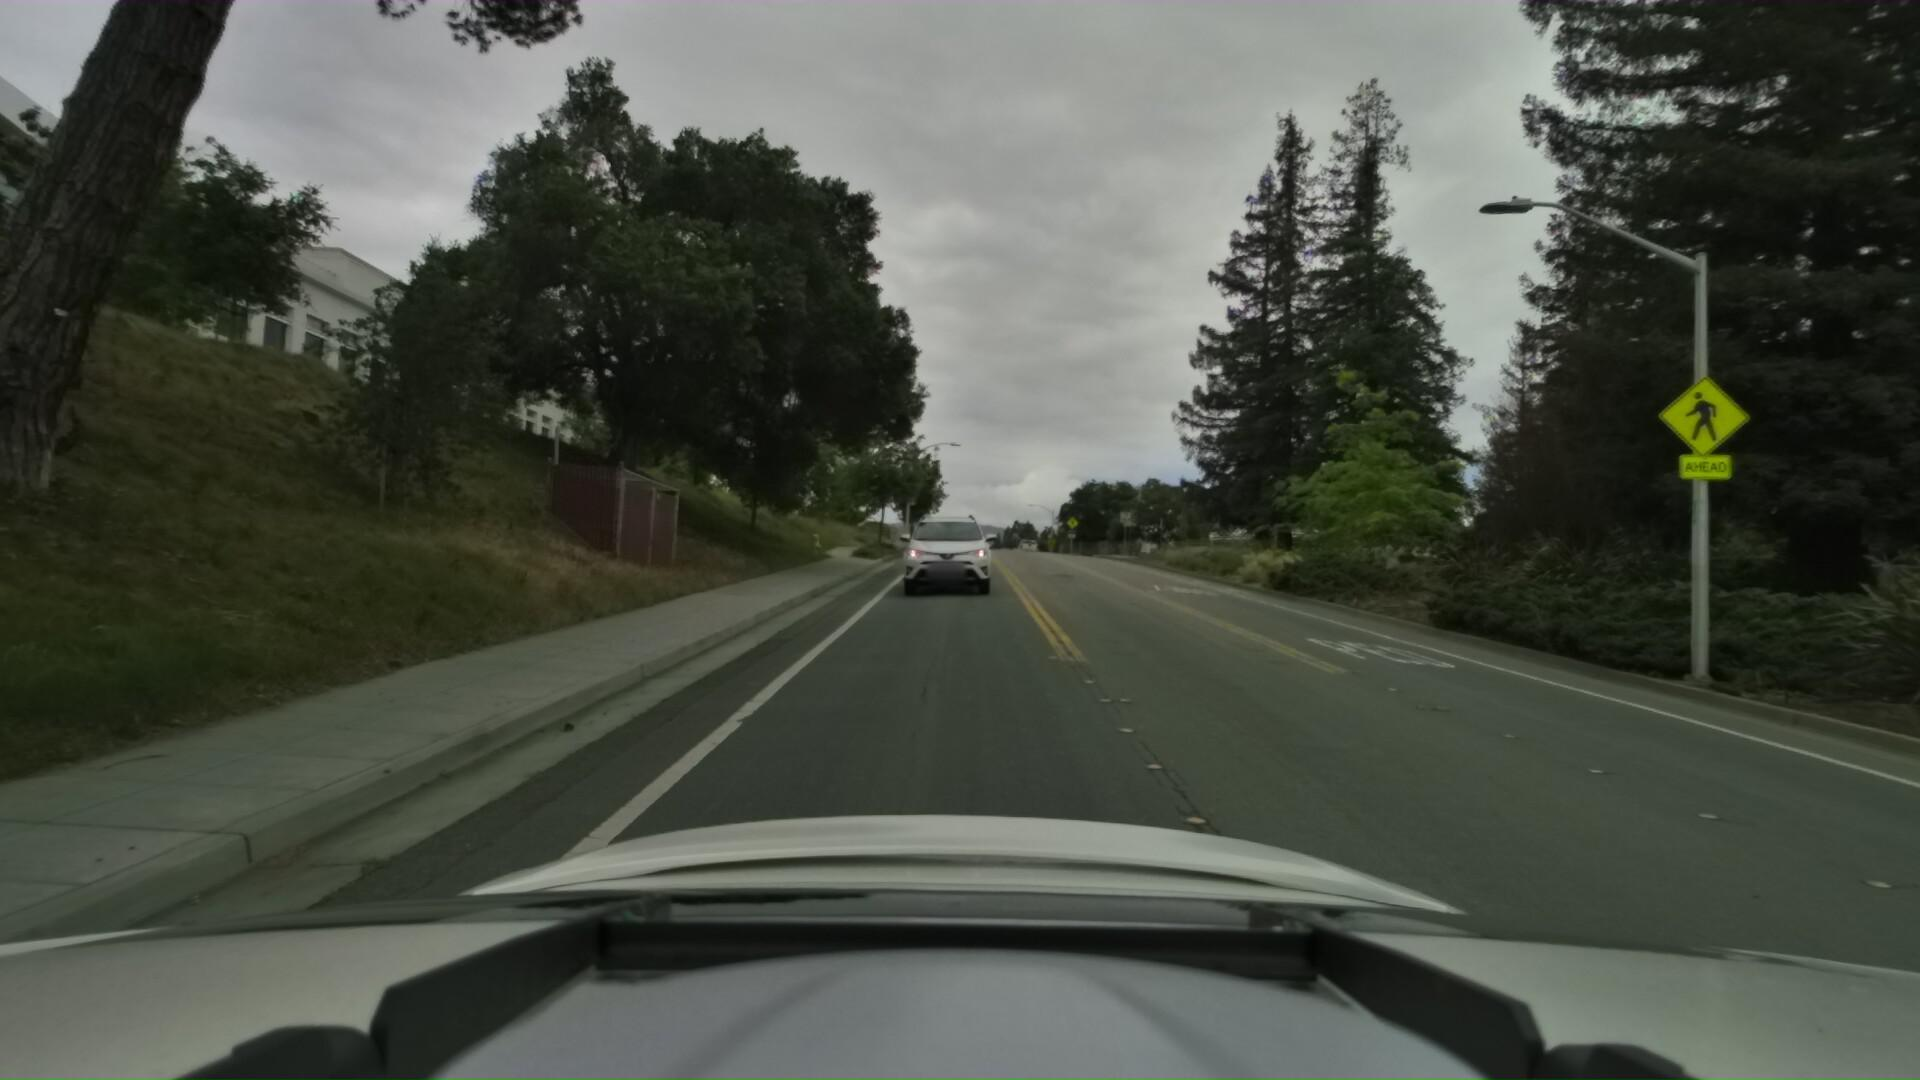car: (901, 501, 996, 589)
